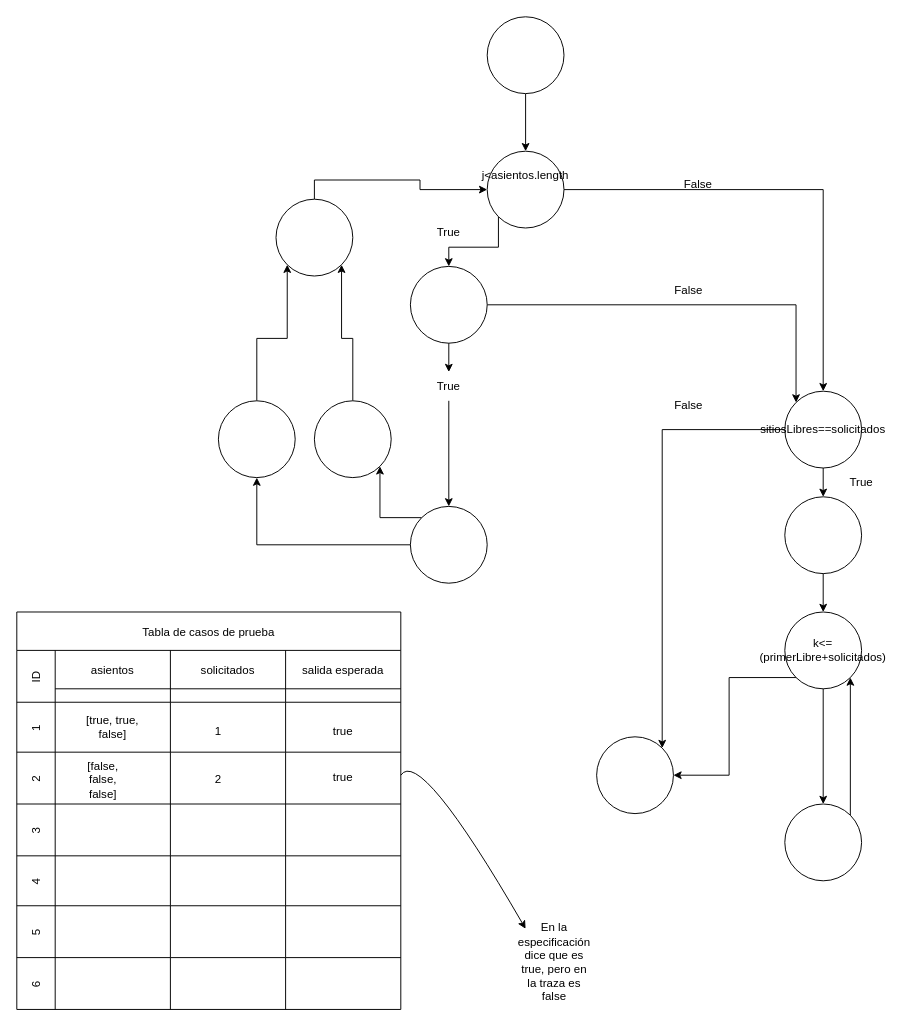
Image size: 907x1026. Some labels were removed from this diagram. The shapes that lost their labels are listed below. From the top down, each one's centre as x and y in pixels, then its label:
(448,304): sitiosLibres < solicitados
(448,544): !asientos[j]
